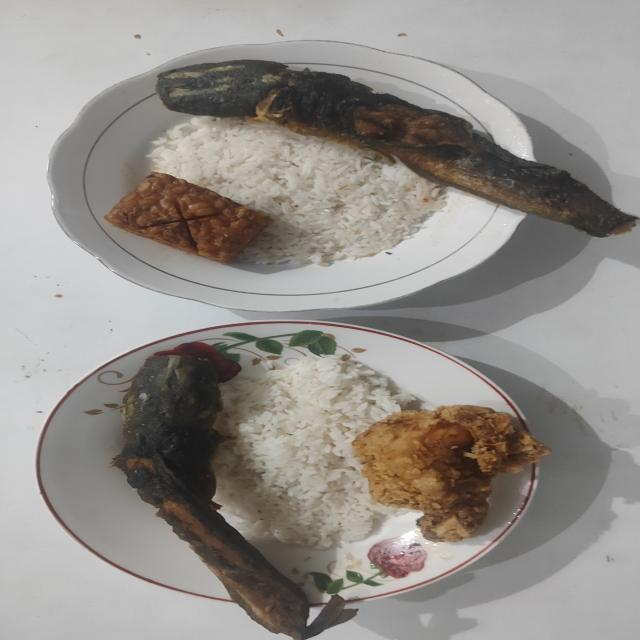nasi_putih: (148, 118, 446, 266), (213, 356, 420, 548)
tempe_goreng: (105, 172, 272, 264)
